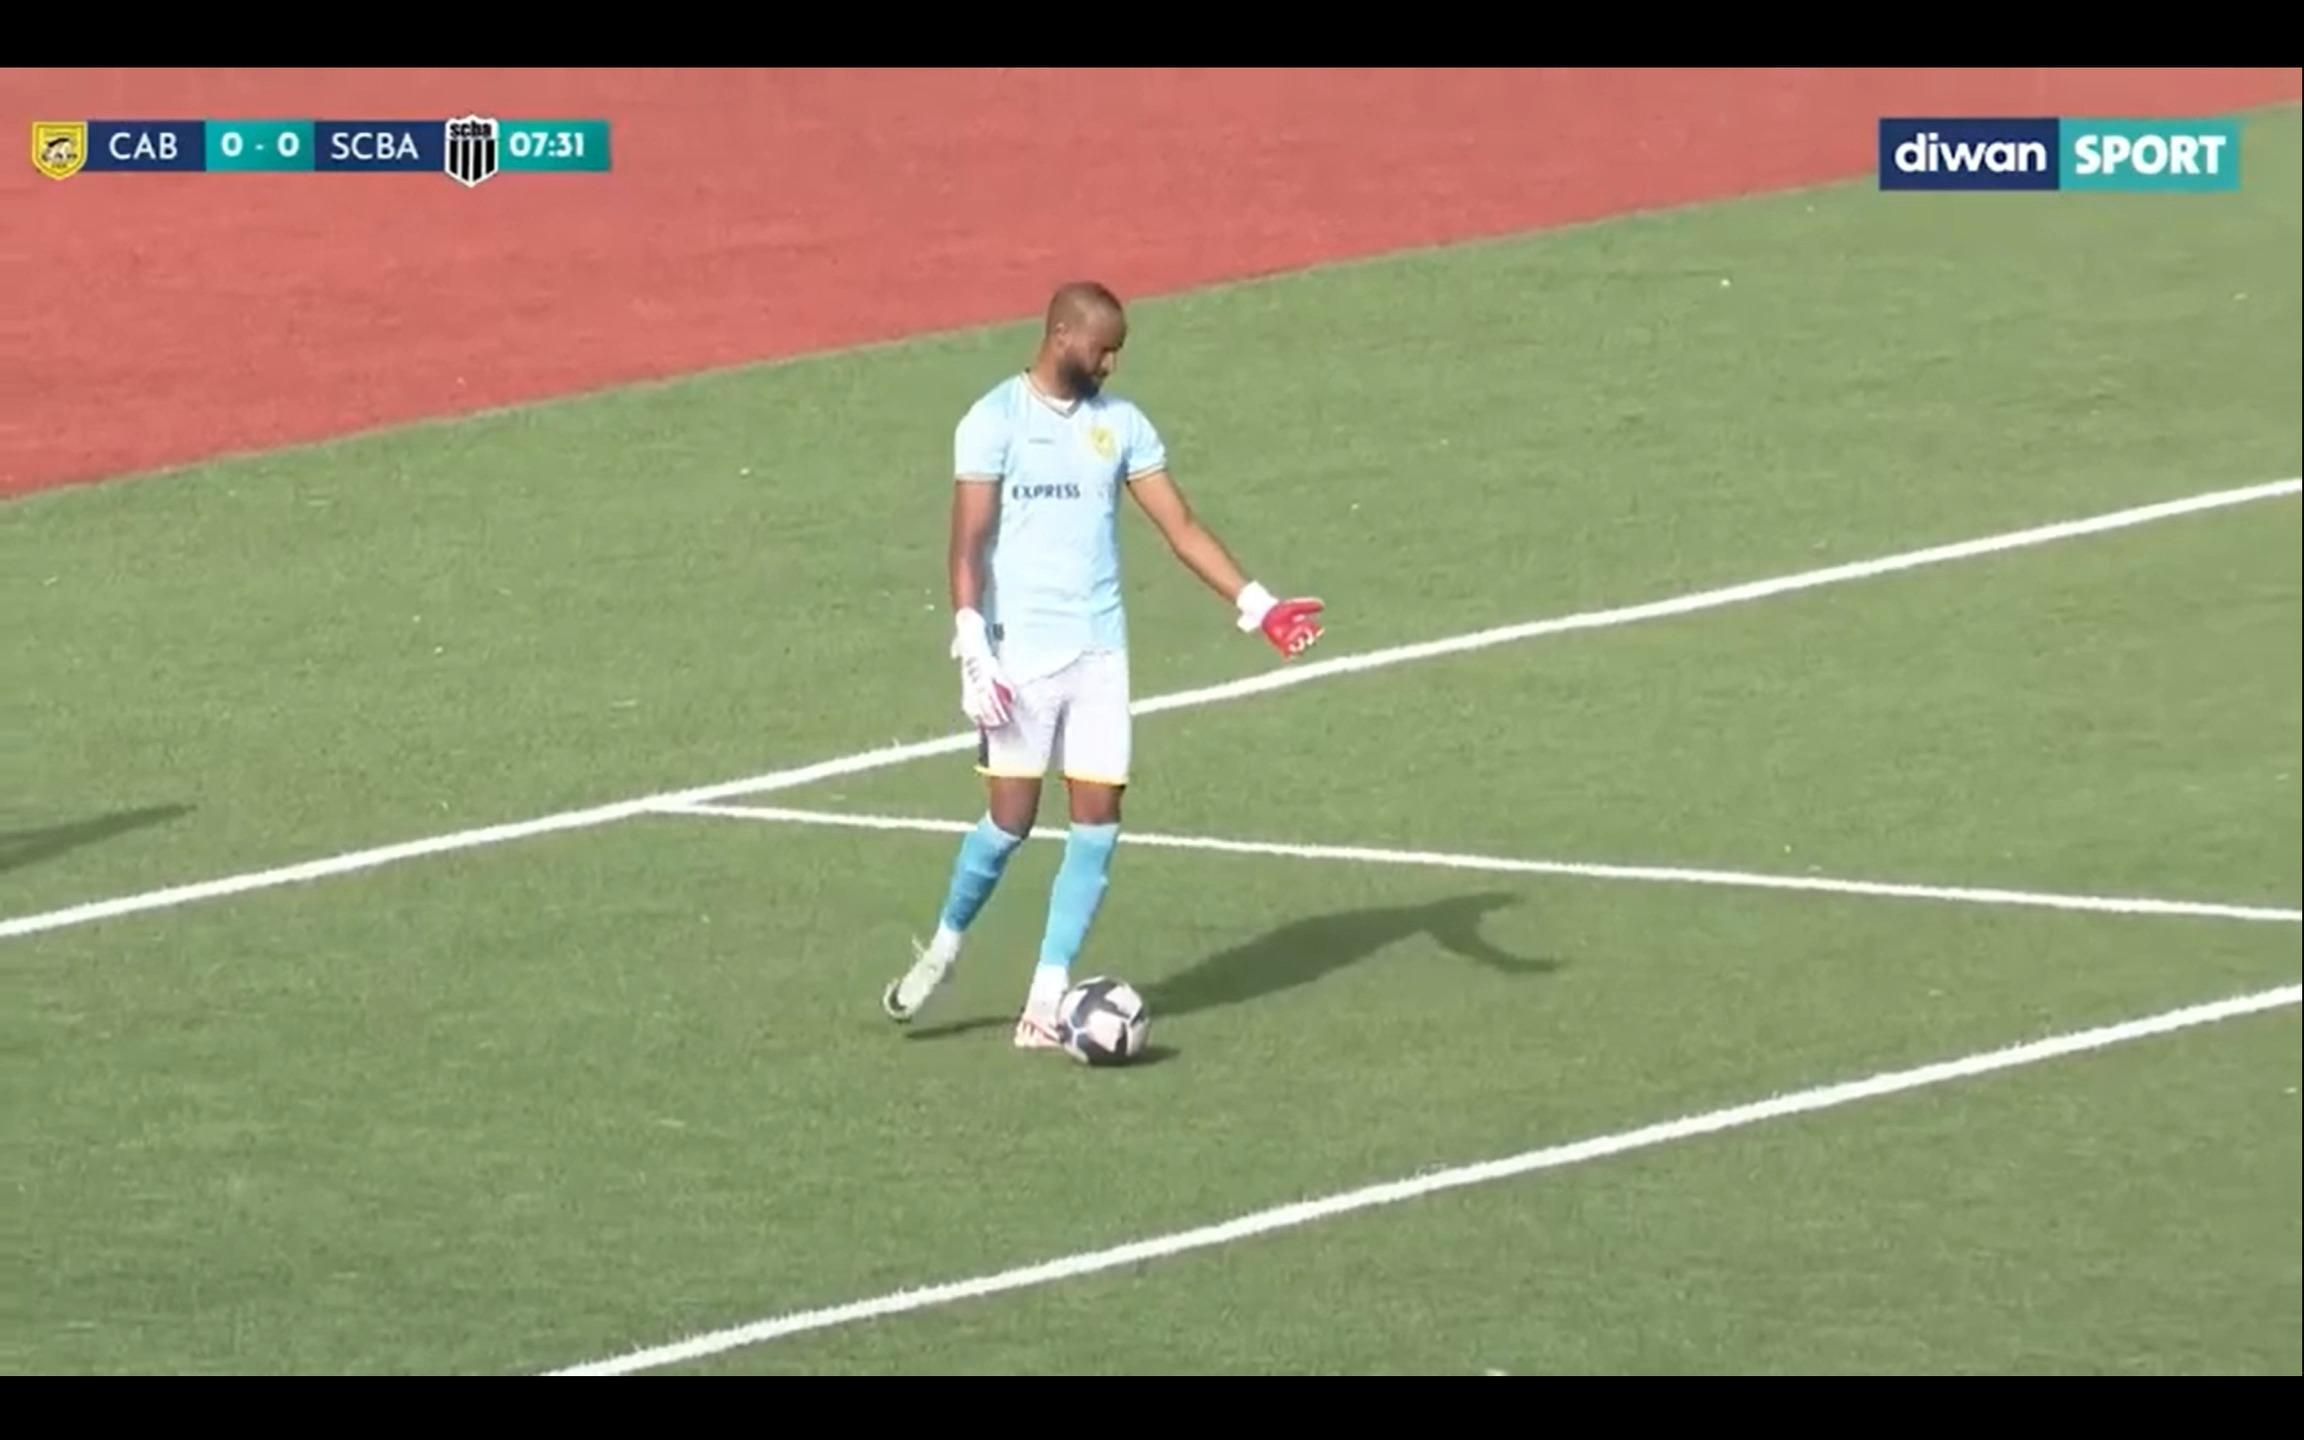ball: (1020, 949, 1191, 1092)
goalkeeper: (816, 241, 1425, 1183)
